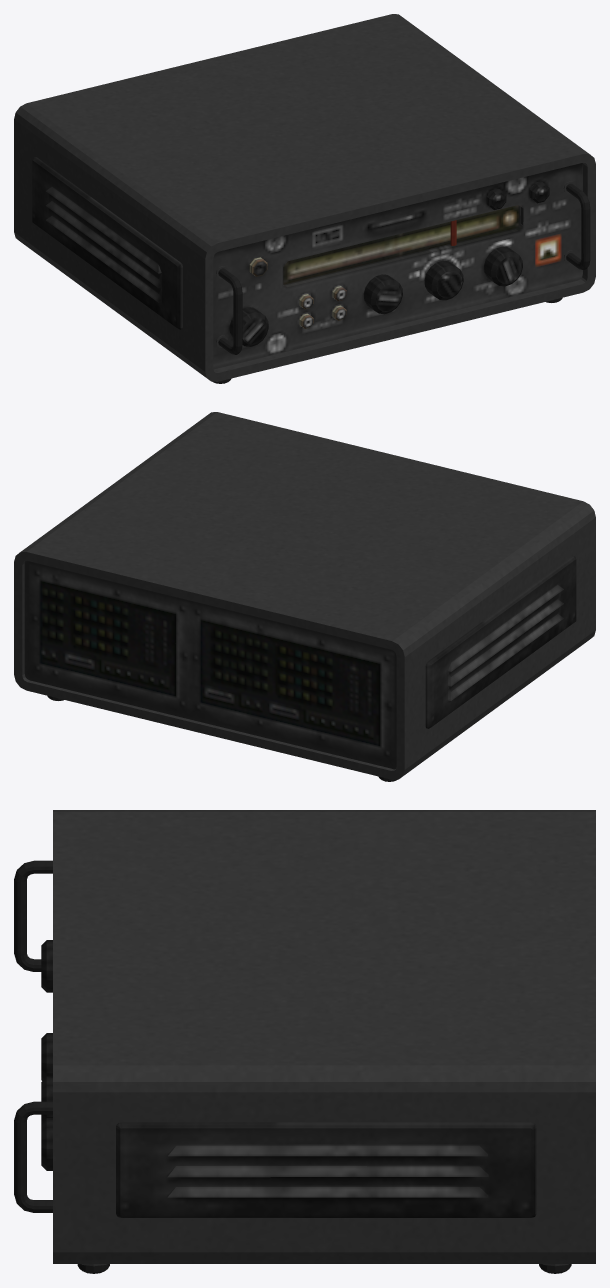
File: military_radio_2.obj
3 renders of one model, top to bottom at view 1: azimuth 30°, elevation 25°; view 2: azimuth 150°, elevation 25°; view 3: azimuth 270°, elevation 25°, orthographic. The views are drawn at different scales.
Parts seen in each view (by area): view 1: military_radio_2, military_radio_2_knob_3, military_radio_2_knob_4, military_radio_2_knob_2, military_radio_2_knob_1; view 2: military_radio_2; view 3: military_radio_2, military_radio_2_knob_4, military_radio_2_knob_1.
Boxes of the visible parts, x1,y1,x2,y2 form: military_radio_2: (14, 14, 595, 383); military_radio_2_knob_3: (424, 260, 463, 300); military_radio_2_knob_4: (484, 246, 522, 286); military_radio_2_knob_2: (363, 274, 402, 314); military_radio_2_knob_1: (229, 307, 268, 346); military_radio_2: (14, 412, 595, 781); military_radio_2: (14, 810, 595, 1273); military_radio_2_knob_4: (41, 1118, 52, 1170); military_radio_2_knob_1: (41, 940, 52, 992).
Size of the model in its own units: 0.49 by 0.175 by 0.4288.
